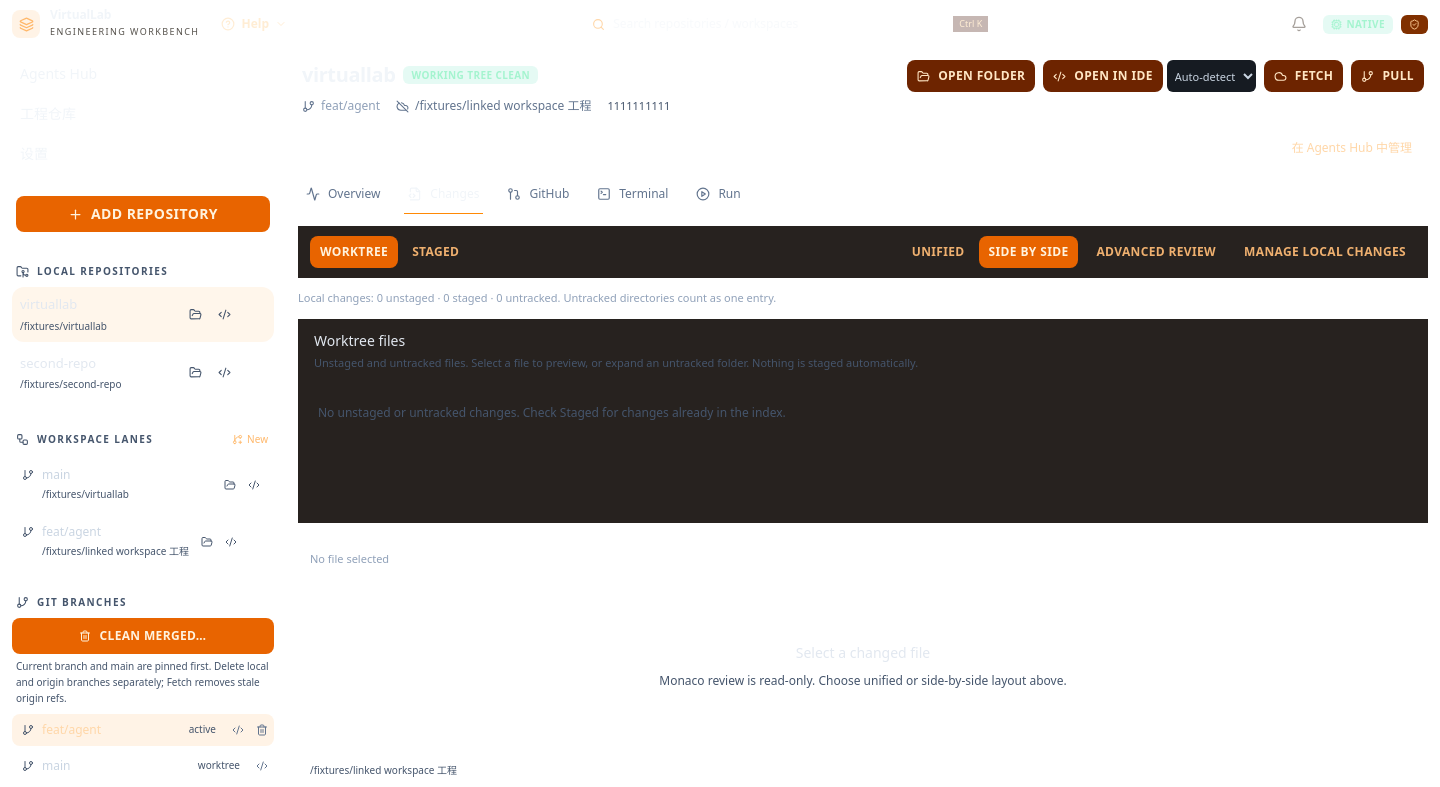
Test: workbench quiet filesystem refresh › unlocks foreground selection that joins a background recovery after switching away and back
This screenshot has width=1440, height=787.
Click the button "second-repo /fixtures/second-repo" at coordinates (100, 373), box [20,354,179,392]
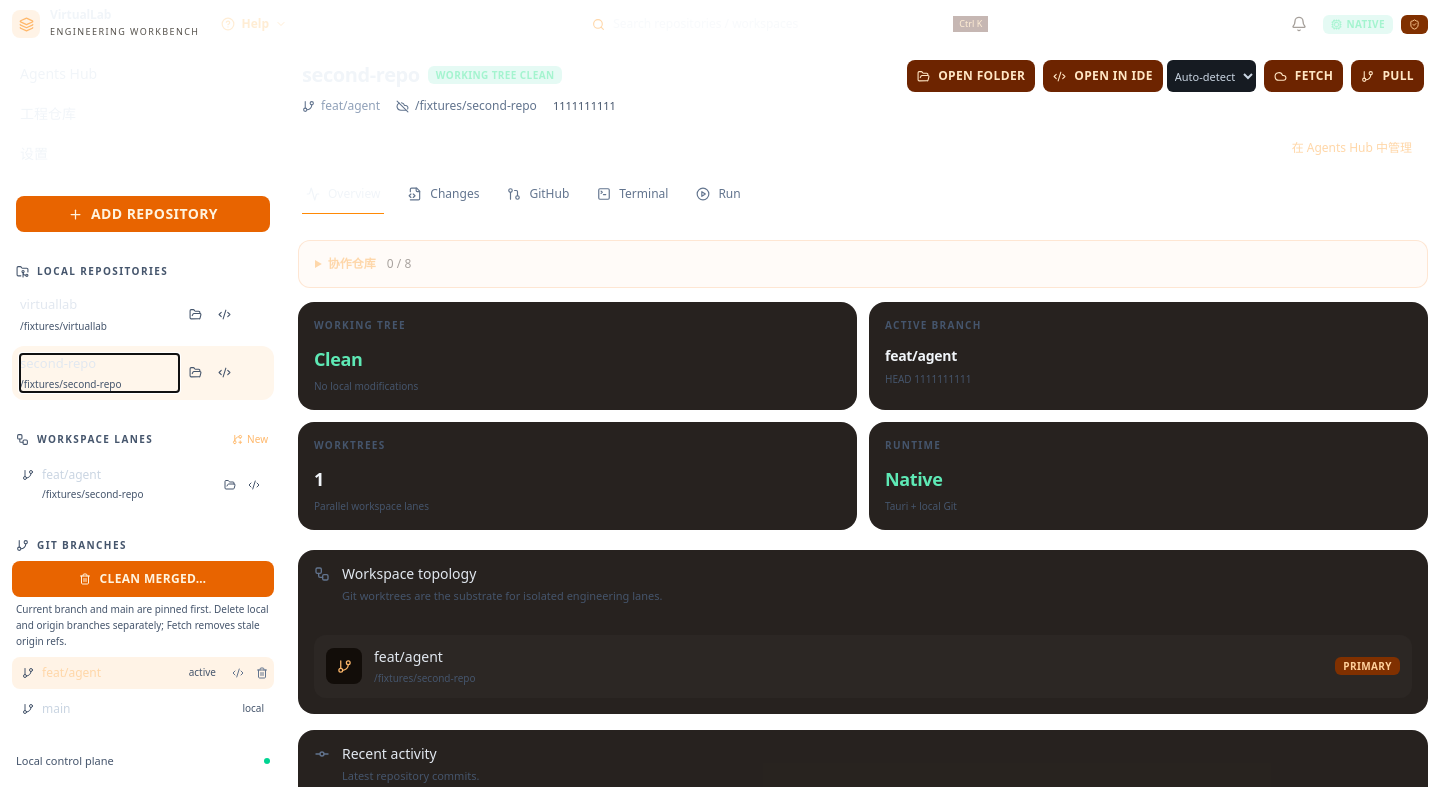
Click the button "virtuallab /fixtures/virtuallab" at coordinates (100, 314), box [20,295,179,334]
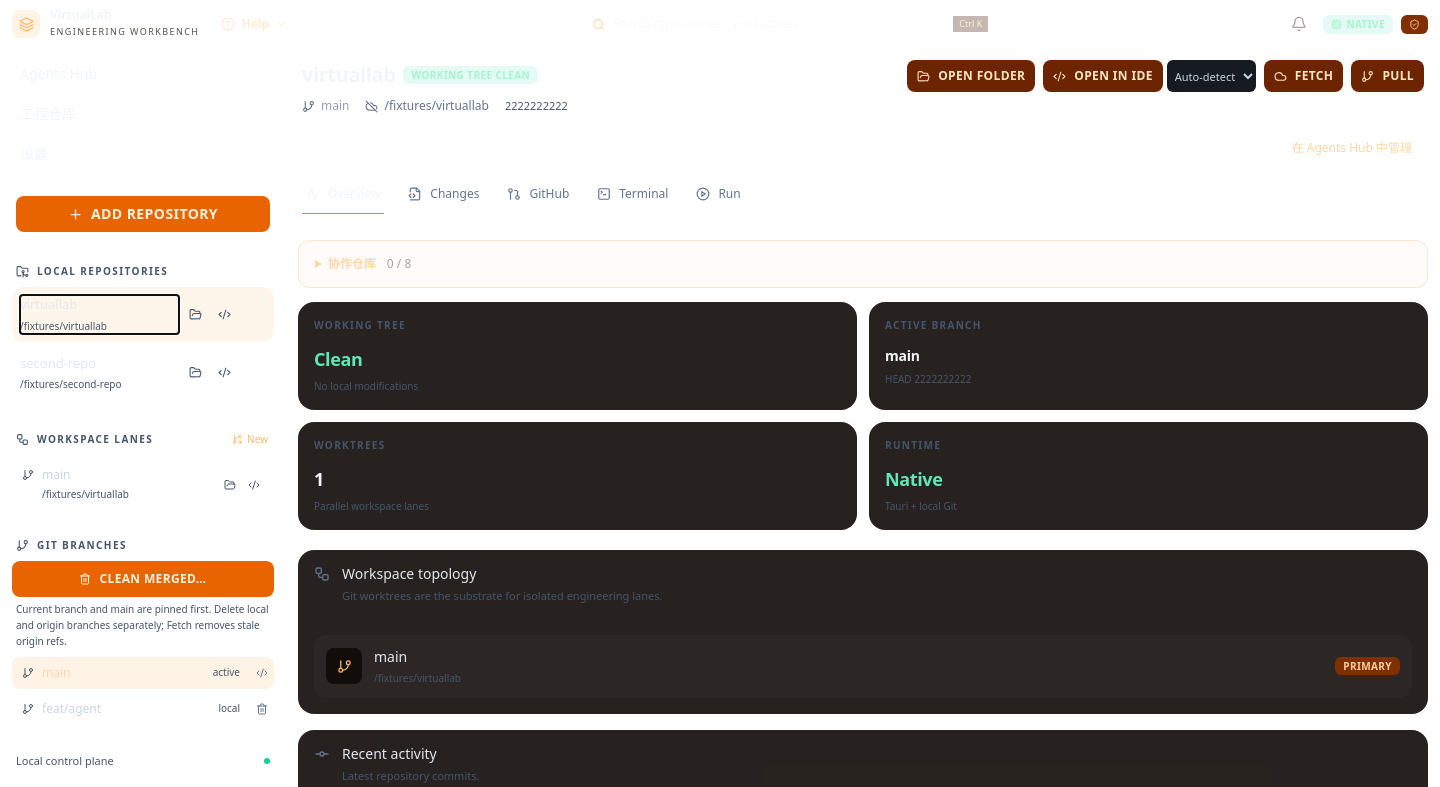
Expected: the button with aria-label "Switch to main" is enabled, [12,657,250,689]
Result: the button with aria-label "Switch to main" shows "active" at [12,657,250,689]
